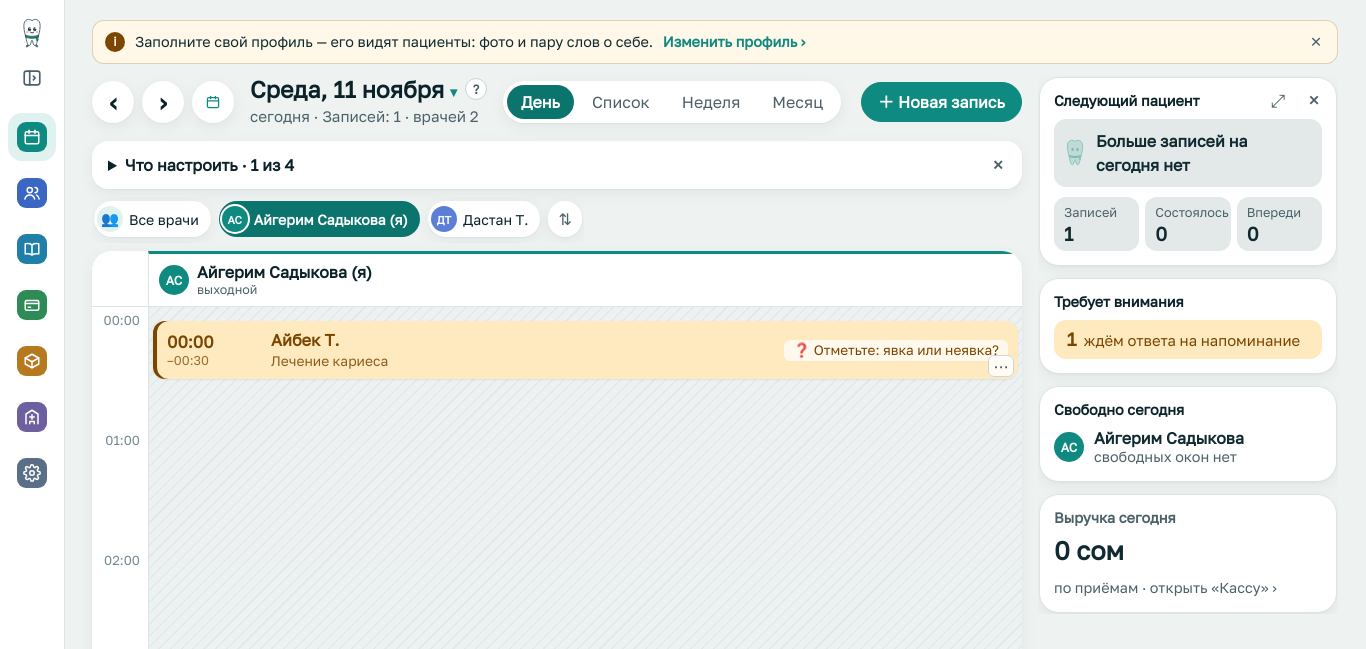
отметили этап со скидкой — строка услуги в карточке сразу со скидкой (сервер перенёс её в строку)
Later steps or results of the test are not shown.
What coordinates should you click on to do the following:
click the button "Айбек Т."
I would click on:
 (190, 342)
Its box is [153,322,1018,380].
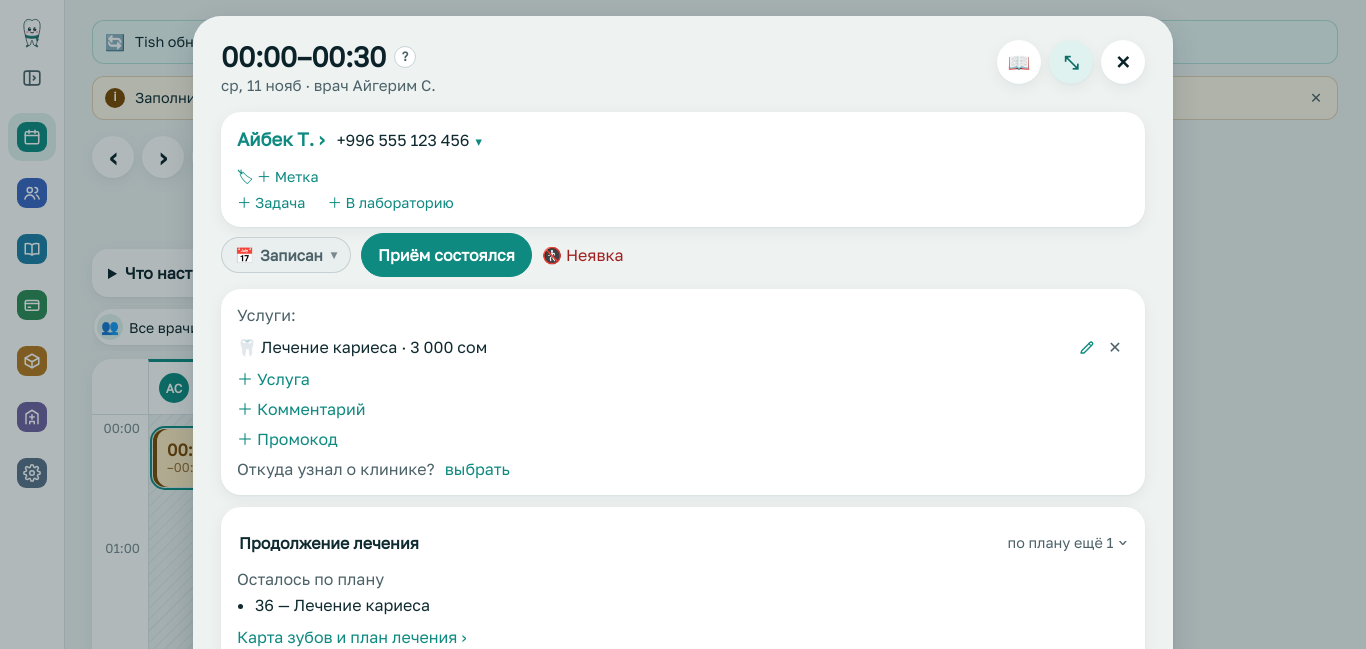
What coordinates should you click on to do the following:
click the button "Приём состоялся"
I would click on:
 (446, 255)
Its box is [361,233,532,277].
(page scrolled)
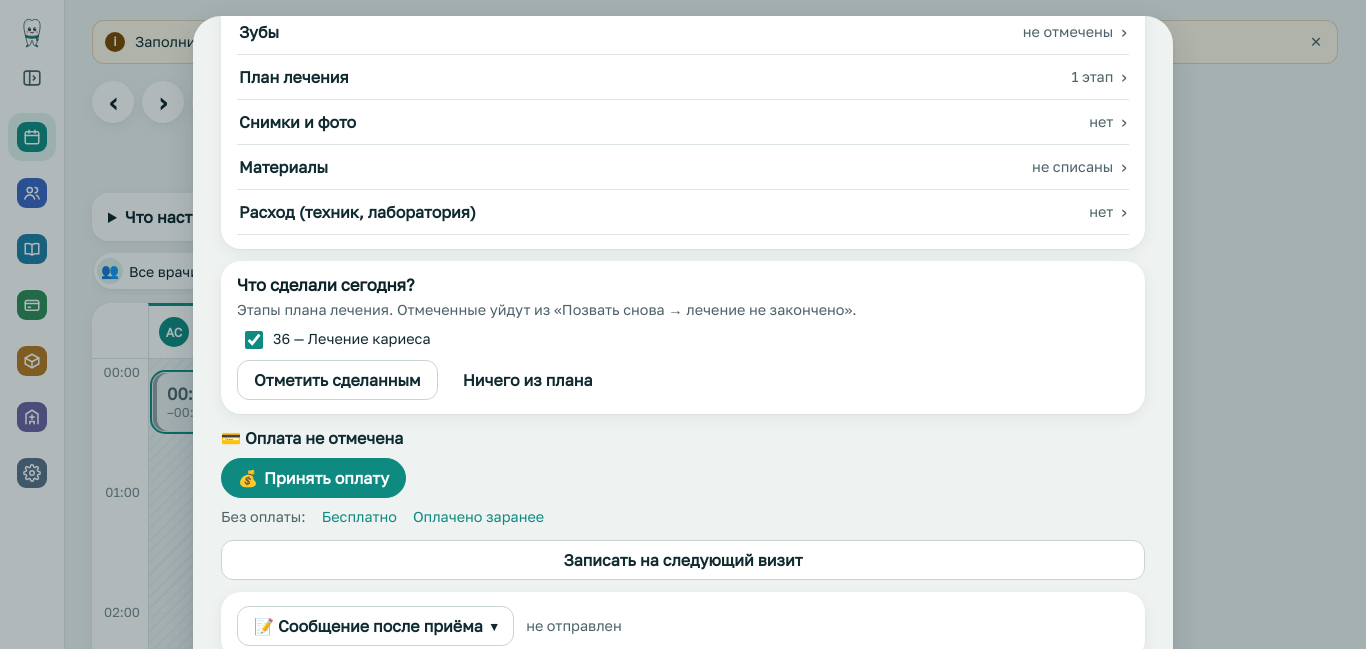
Expected: the checkbox labelled "36 — Лечение кариеса" is checked, [245,332,263,350]
